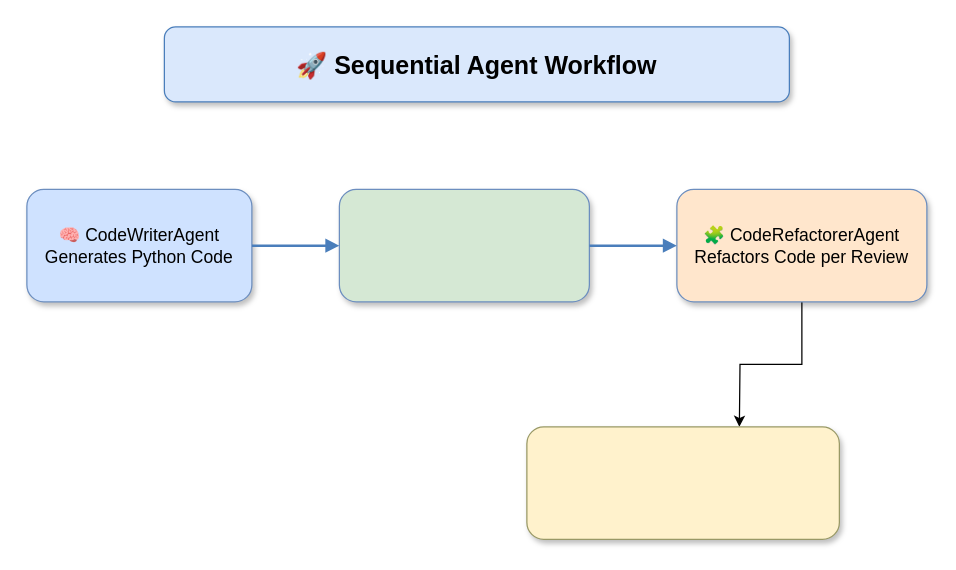
The diagram is 956 pixels wide and 570 high, and some of its shapes have lost their labels. Each missing label, with the centre of its shape:
✅ Final Output: Refactored Python Code: the point at 684,484
🕵️‍♂️ CodeReviewerAgent Reviews & Provides Feedback: the point at 465,247
